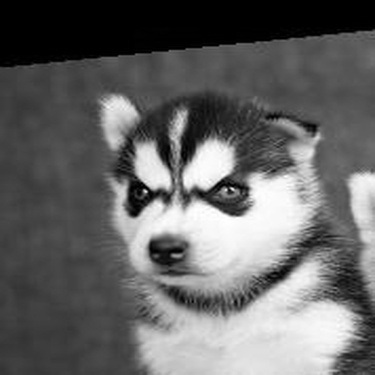dog: (99, 92, 372, 369)
